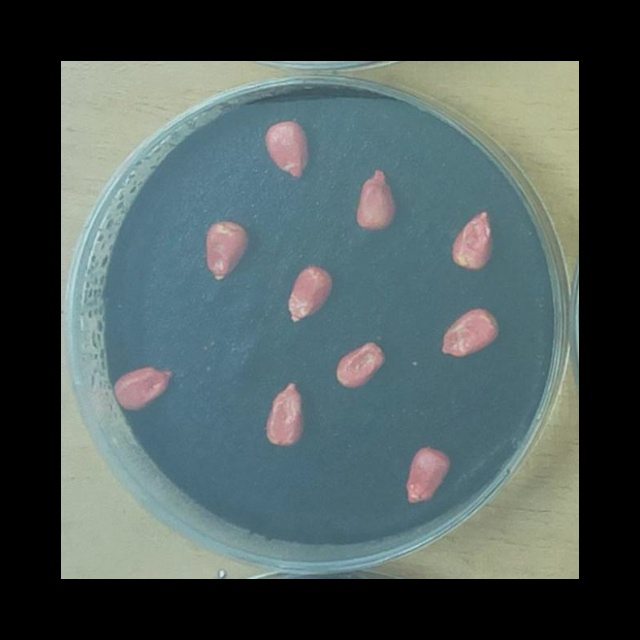Zea mays: (435, 303, 504, 362), (107, 361, 179, 417), (200, 214, 254, 287), (260, 115, 315, 185), (402, 441, 455, 511), (261, 377, 309, 452), (283, 261, 336, 328), (351, 165, 401, 236), (449, 207, 498, 277), (331, 336, 390, 394)
